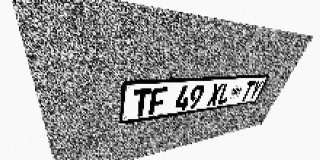4: (174, 85, 193, 111)
9: (187, 84, 206, 109)
F: (148, 87, 168, 115)
L: (216, 82, 234, 105)
T: (132, 88, 152, 118), (239, 81, 256, 101)
X: (206, 83, 224, 106)
Y: (247, 80, 264, 100)
